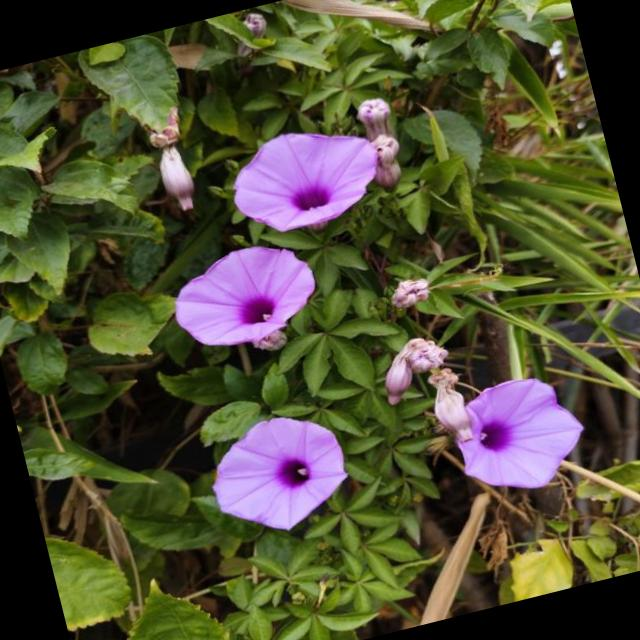ipomoea: (121, 65, 598, 568), (195, 400, 363, 548), (218, 110, 396, 248), (160, 229, 332, 366), (440, 362, 600, 508)
